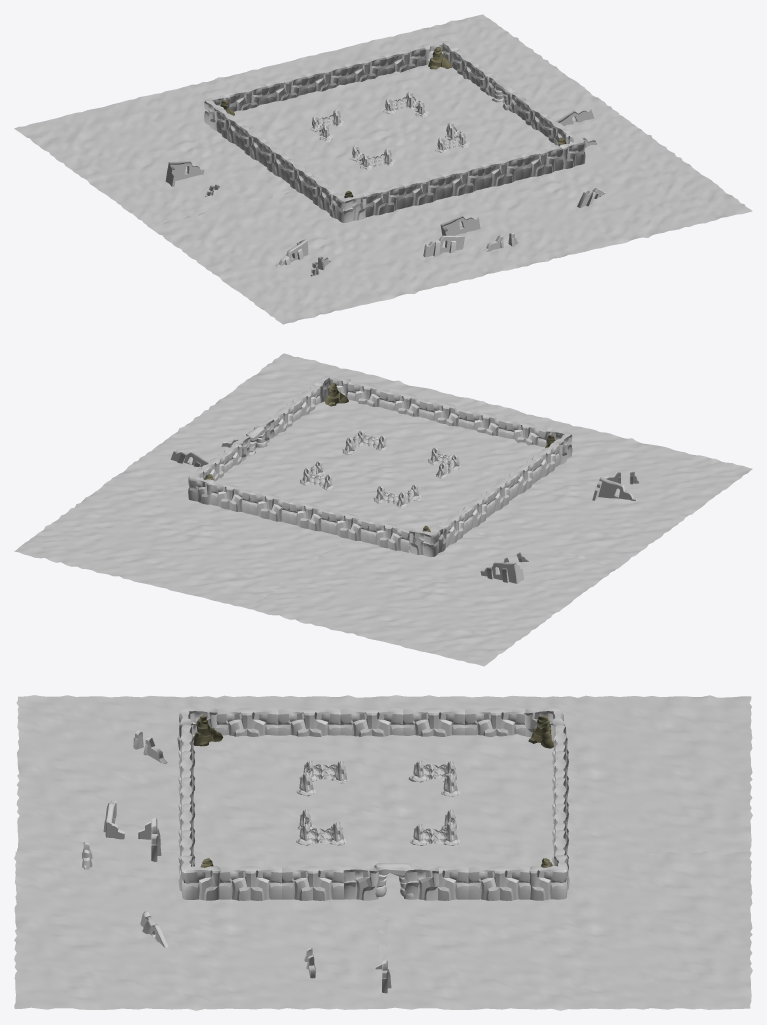
Rendered from level1_boss.fbx.
3 views of the same model, one above another, from view 1: azimuth 30°, elevation 25°; view 2: azimuth 150°, elevation 25°; view 3: azimuth 270°, elevation 25° (orthographic). The views are drawn at different scales.
Visible parts, largest first — view 1: Floor001, Floor, Wall020, ruined_wall002, GeoSphere006, GeoSphere057, ruined_wall_doorway, GigaRock; view 2: Floor001, Floor, Wall020, ruined_wall002, GeoSphere006, GeoSphere057; view 3: Floor001, Floor, Wall020, GeoSphere006, GeoSphere057, ruined_wall002, GigaRock, ruined_wall_doorway, Arc.
Boxes of the visible parts, x1,y1,x2,y2 form: Floor001: (14, 14, 752, 324); Floor: (234, 64, 558, 196); Wall020: (204, 40, 585, 222); ruined_wall002: (165, 109, 606, 266); GeoSphere006: (310, 97, 469, 170); GeoSphere057: (312, 91, 465, 167); ruined_wall_doorway: (205, 137, 596, 276); GigaRock: (220, 47, 566, 198); Floor001: (14, 353, 752, 666); Floor: (216, 399, 544, 545); Wall020: (188, 375, 572, 557); ruined_wall002: (170, 450, 636, 583); GeoSphere006: (300, 435, 460, 507); GeoSphere057: (302, 430, 459, 506); Floor001: (14, 695, 752, 1010); Floor: (193, 734, 553, 891); Wall020: (177, 707, 569, 900); GeoSphere006: (296, 764, 460, 845); GeoSphere057: (299, 760, 457, 842); ruined_wall002: (103, 800, 391, 993); GigaRock: (193, 715, 553, 867); ruined_wall_doorway: (82, 730, 315, 978); Arc: (374, 863, 413, 897).
Bounding box in the file's own units: 3538 × 526 × 3522.
